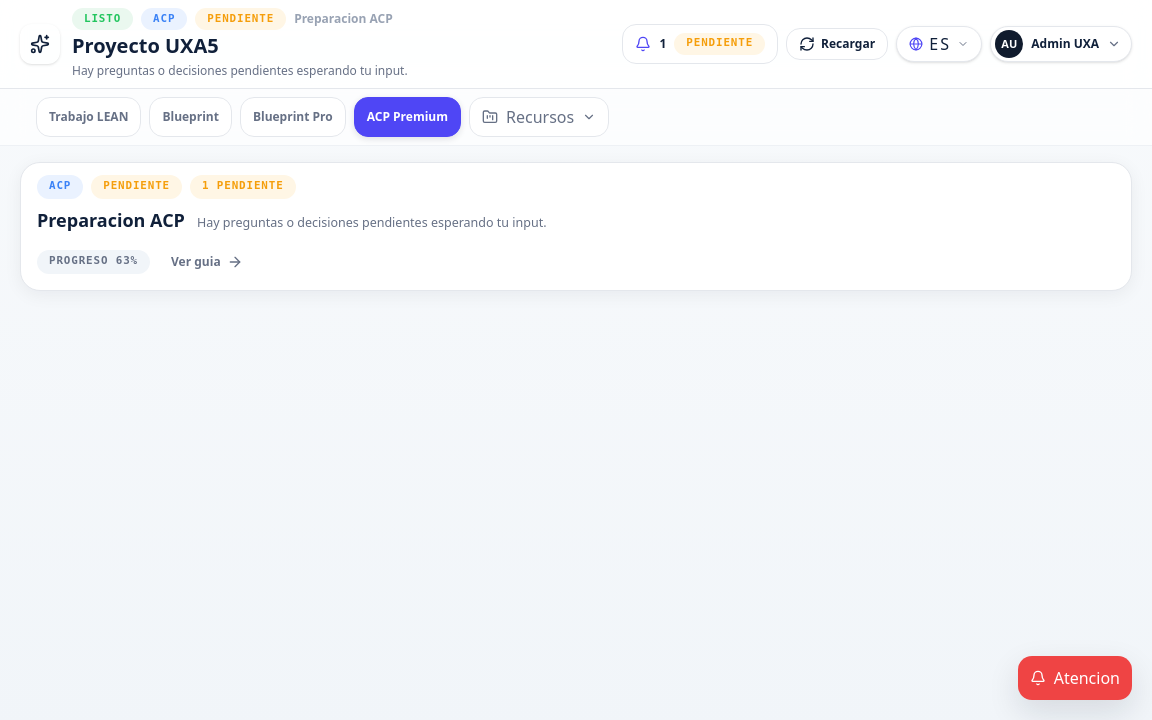
Test: ProjectWorkspaceShell UXA5 › opens the current guide in a drawer and returns focus when it closes
Expected: the text "Guia del momento" is not shown
Click the button "Ver guia" at (207, 262), box [158,246,256,278]
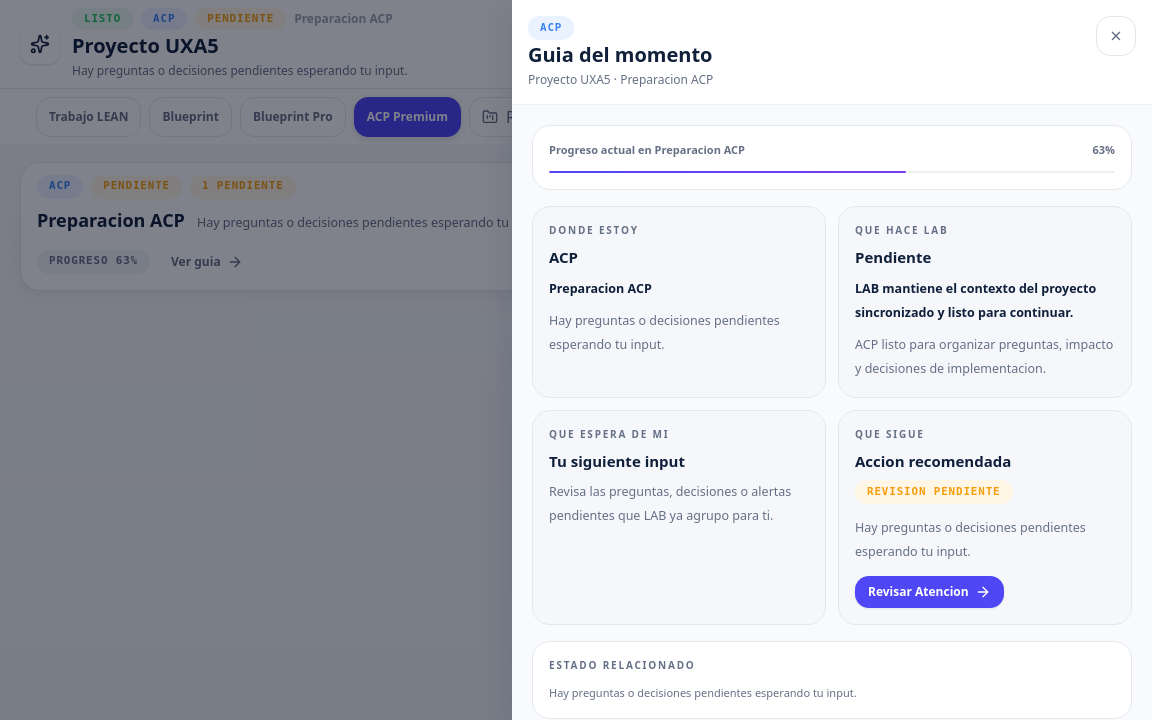
Expected: the text "Que sigue" is shown, [855,427,925,441]
Expected: the button named "Cerrar guia" is shown
Expected: the text "Preparacion ACP" is shown, [549,280,652,297]
Click the button named "Cerrar guia" at (1116, 36), box [1096,16,1136,56]
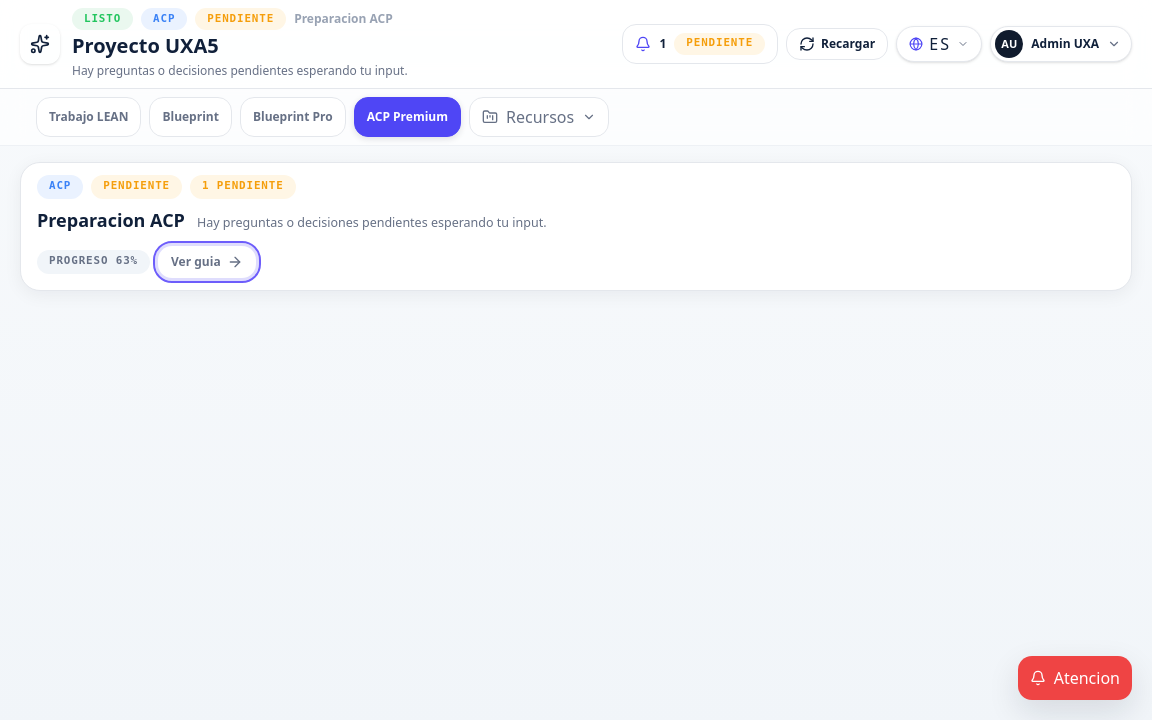
Expected: the heading "Guia del momento" is gone
